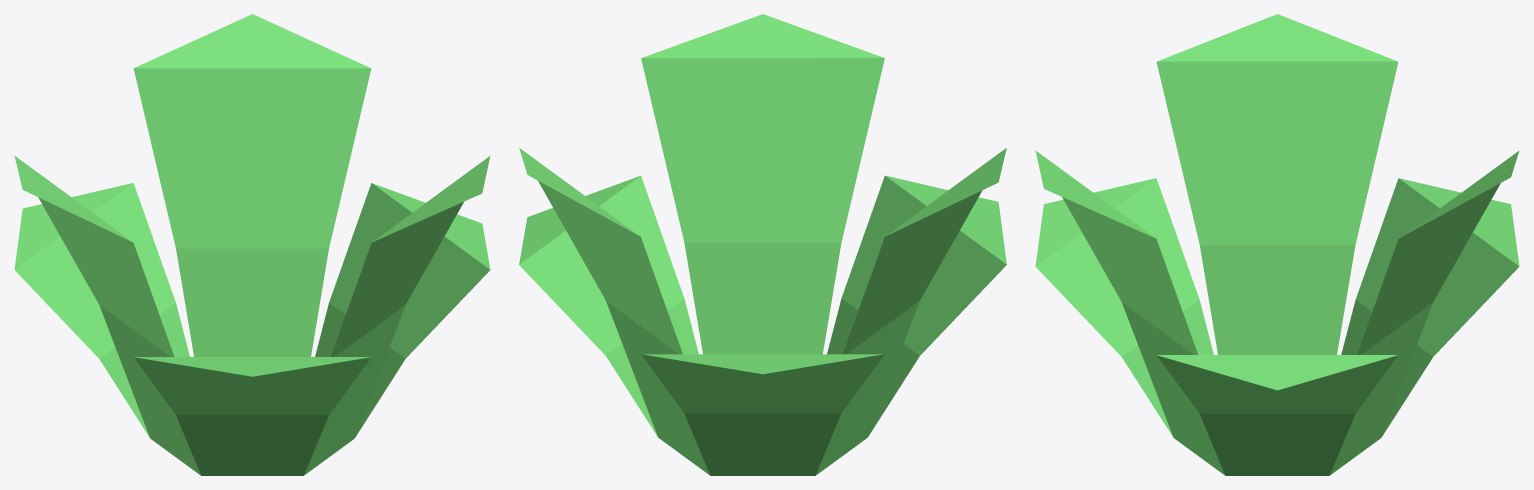
Rendered from bush.gltf.
The picture shows the model from 3 angles, left to right: view 1: azimuth 30°, elevation 25°; view 2: azimuth 150°, elevation 25°; view 3: azimuth 270°, elevation 25°; orthographic projection. The views are drawn at different scales.
Parts seen in each view (by area): view 1: plant; view 2: plant; view 3: plant.
Part boxes in pixels (x1=…): plant: x1=14, y1=14, x2=490, y2=475; plant: x1=519, y1=14, x2=1006, y2=475; plant: x1=1035, y1=14, x2=1519, y2=475.
Size of the model in its own units: 0.6454 by 0.419 by 0.5788.
